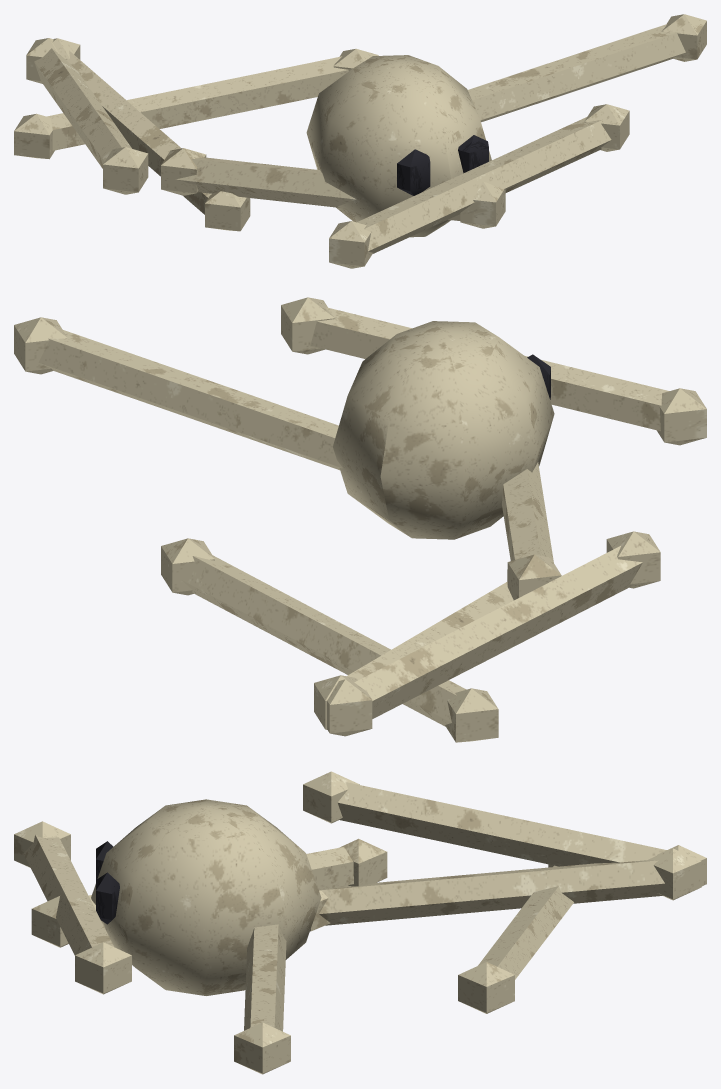
File: bone_pile.glb
3 views of the same model, one above another, from view 1: azimuth 30°, elevation 25°; view 2: azimuth 150°, elevation 25°; view 3: azimuth 270°, elevation 25° (orthographic). The views are drawn at different scales.
Parts seen in each view (by area): view 1: Prop; view 2: Prop; view 3: Prop.
Part boxes in pixels (left/top/right/bottom): Prop: left=14, top=14, right=706, bottom=268; Prop: left=14, top=297, right=706, bottom=742; Prop: left=14, top=771, right=706, bottom=1074.
Size of the model in its own units: 0.8766 by 0.25 by 0.8419.
Materials: 2 (2 with a texture image).
